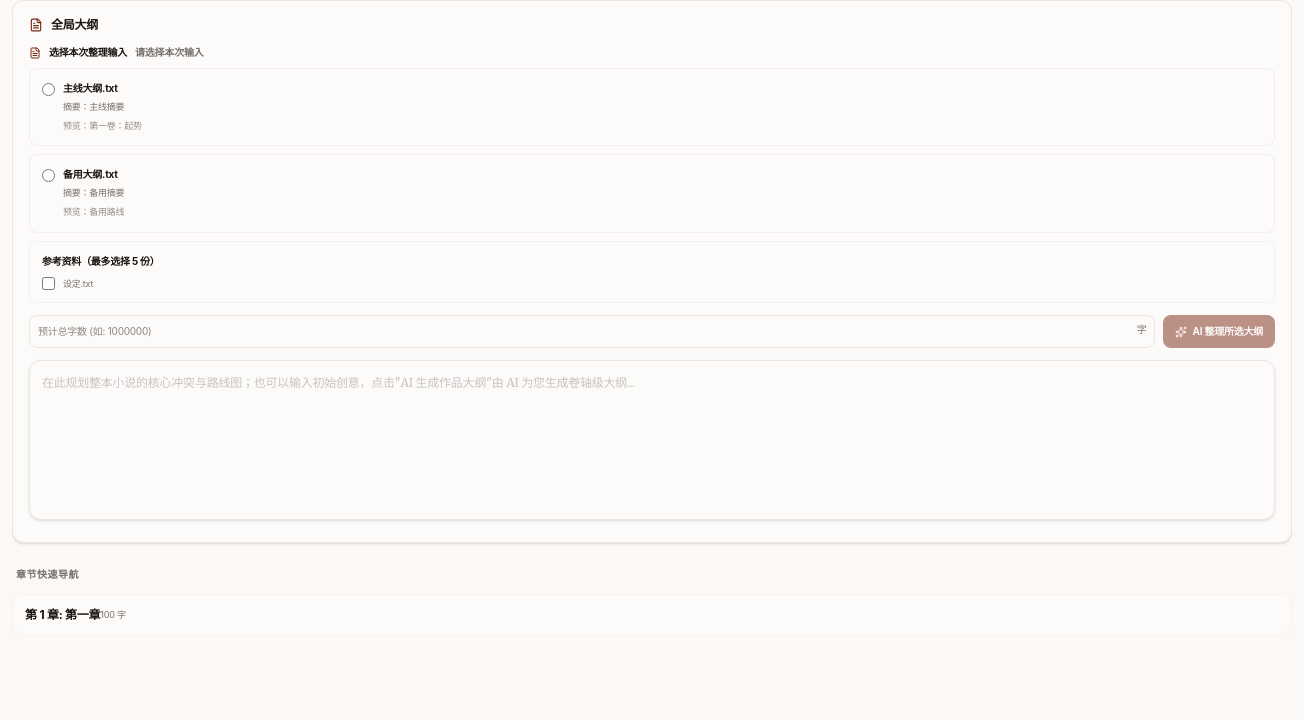
OutlineTab - Plan 135 Behavior Tests › shows outline filenames, summaries, previews, and requires a primary selection
Expected: the text "主线大纲.txt" is shown, x1=63 y1=82 x2=118 y2=94
Expected: the text "摘要：主线摘要" is shown, x1=63 y1=101 x2=124 y2=112
Click the radio button labelled "备用大纲.txt 摘要：备用摘要 预览：备用路线".
click(48, 176)  # box x1=42 y1=169 x2=55 y2=182
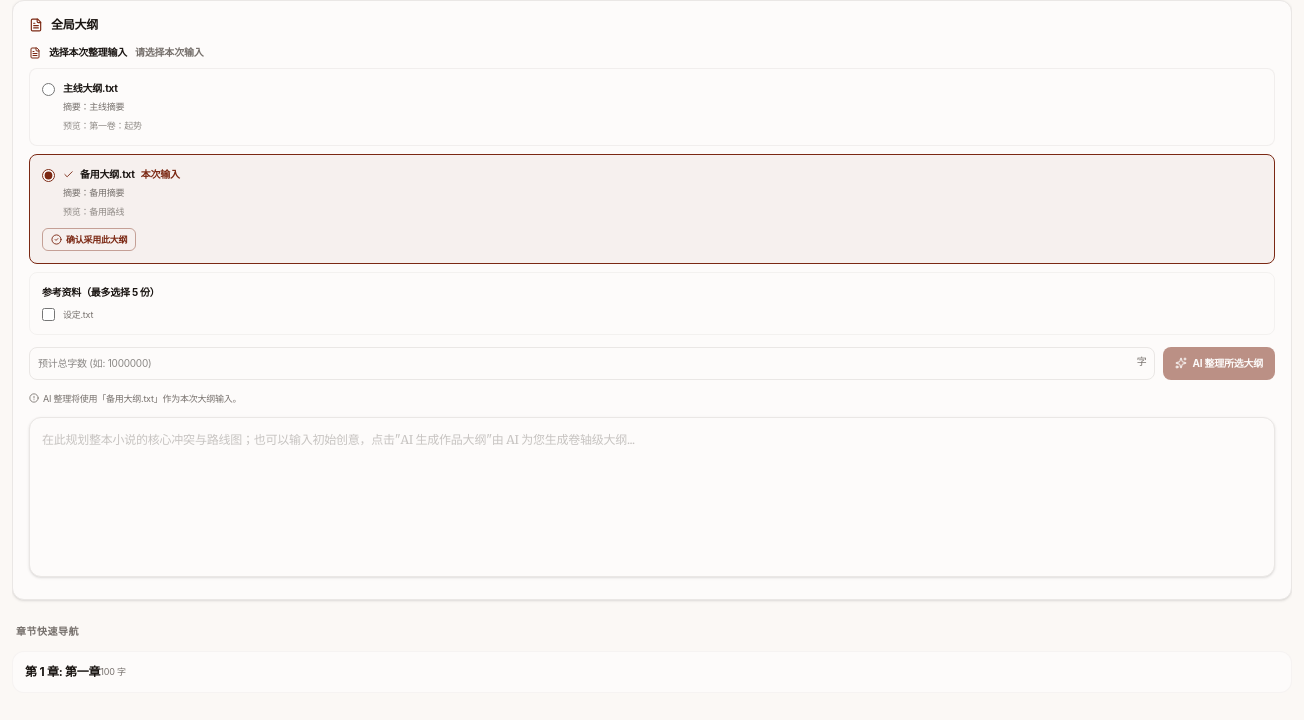
Now the button "确认采用此大纲" is shown, box x1=42 y1=228 x2=136 y2=251
